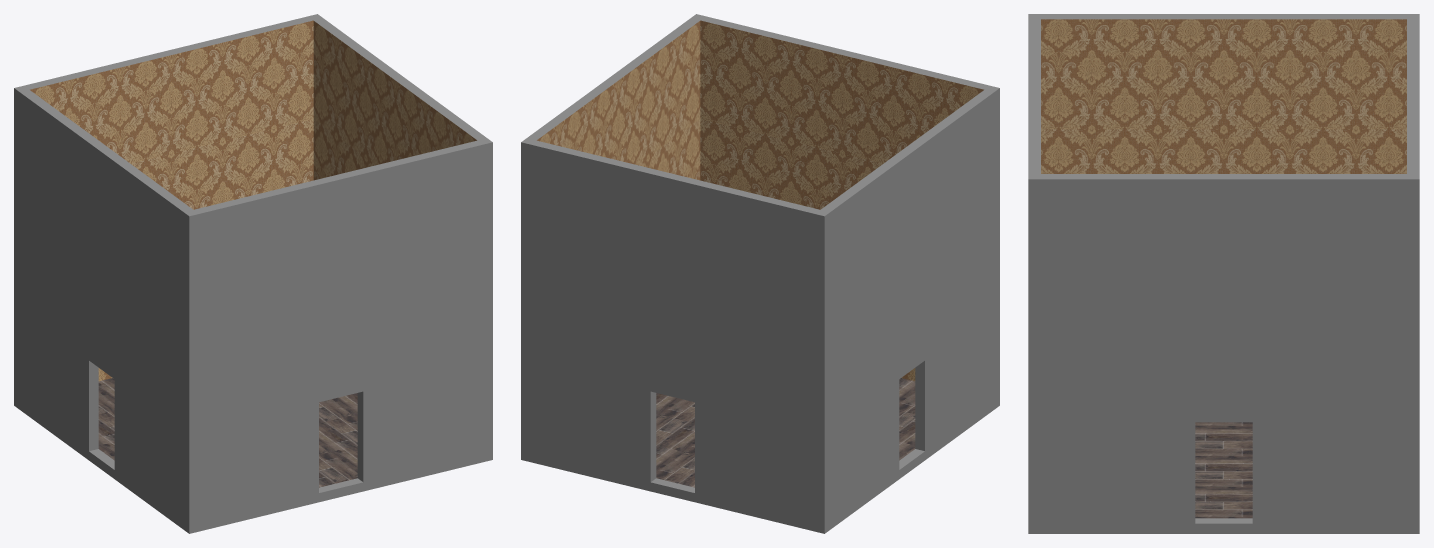
Rendered from Charred_Room.FBX.
3 views of the same model, side by side, from view 1: azimuth 30°, elevation 25°; view 2: azimuth 150°, elevation 25°; view 3: azimuth 270°, elevation 25° (orthographic). The views are drawn at different scales.
Parts seen in each view (by area): view 1: Charred_Room; view 2: Charred_Room; view 3: Charred_Room.
Boxes of the visible parts, left/top/right/bottom form: Charred_Room: left=14, top=14, right=492, bottom=533; Charred_Room: left=521, top=14, right=999, bottom=533; Charred_Room: left=1028, top=14, right=1419, bottom=533.
Bounding box in the file's own units: 500 × 500 × 500.
